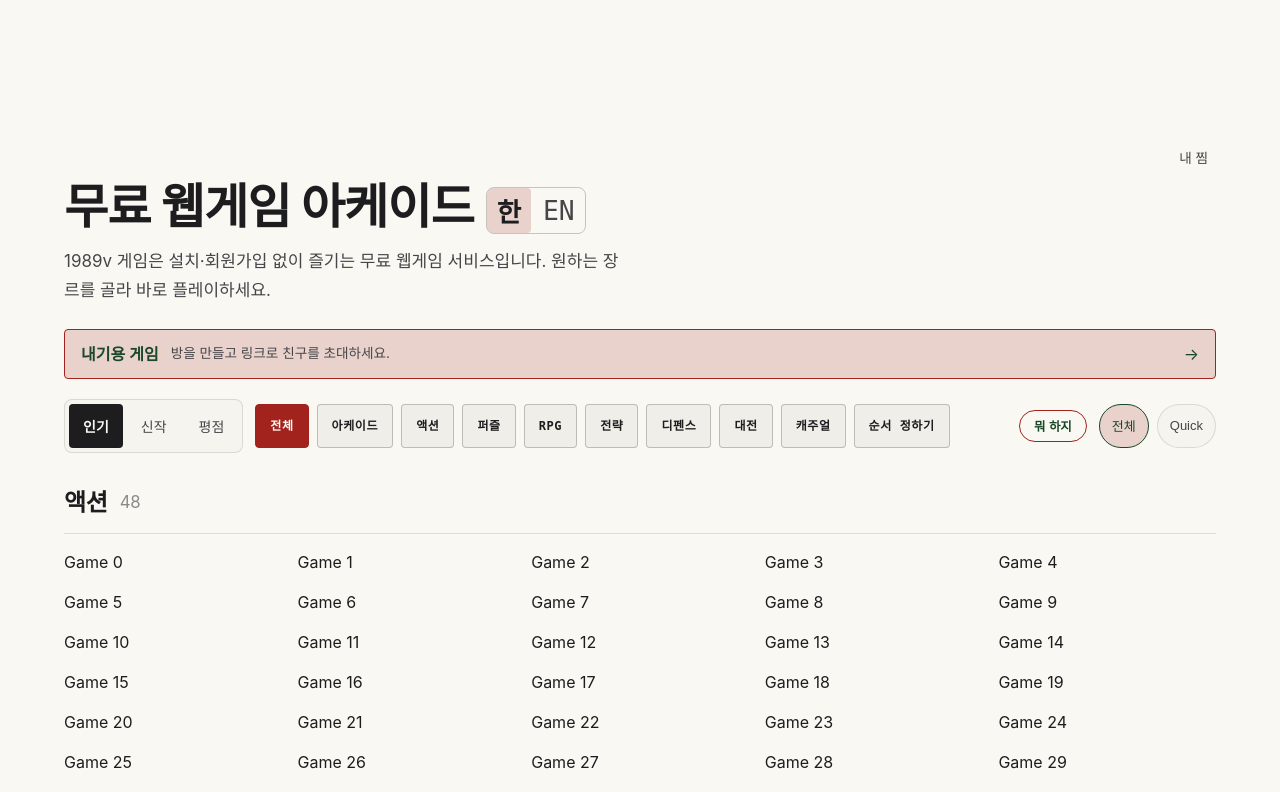
uses 82 total for 48 cards during tag loading/failure and sort races
What coordinates should you click on to do the following:
click the button "Quick"
I would click on:
 (1186, 426)
Its box is x1=1157 y1=404 x2=1216 y2=448.
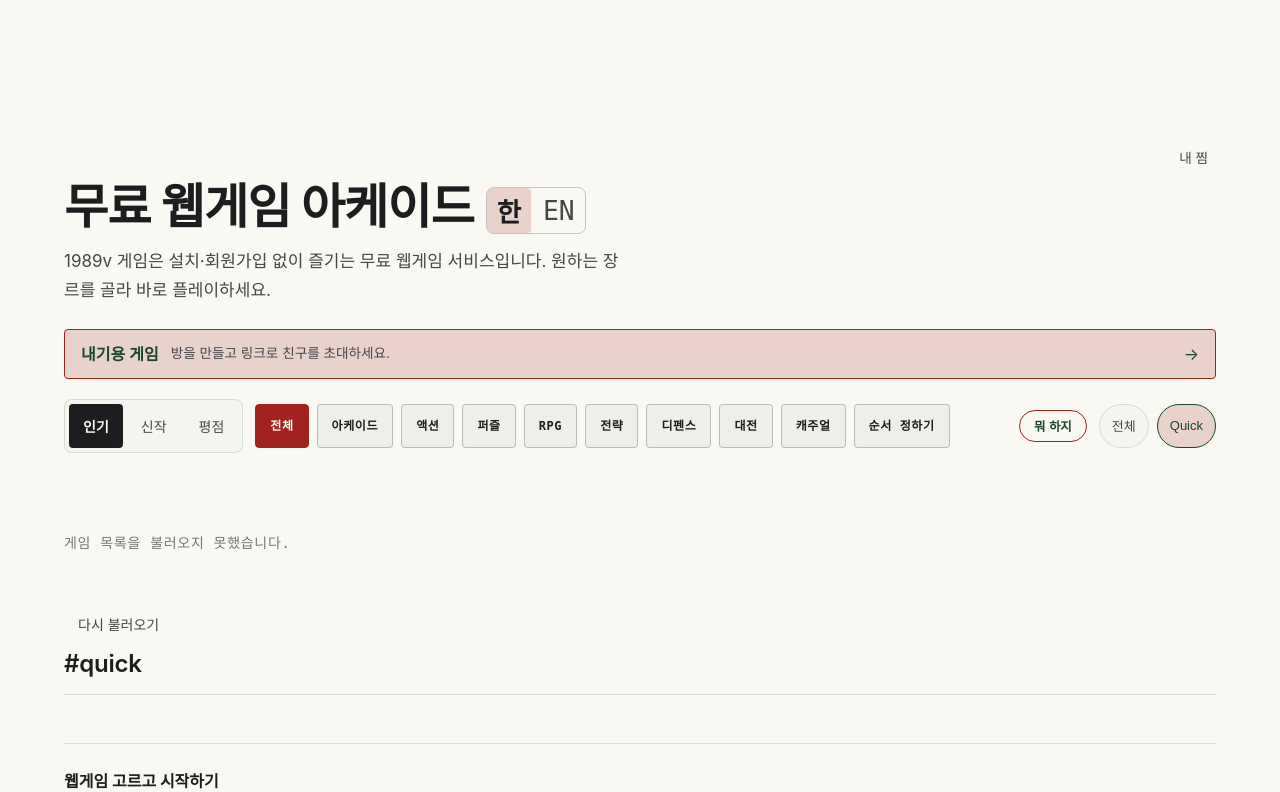
Expected: the text "게임 목록을 불러오지 못했습니다." is shown, x1=64 y1=534 x2=291 y2=550
What coordinates should you click on to do the following:
click the button "Quick"
I would click on:
 (1186, 426)
Its box is x1=1157 y1=404 x2=1216 y2=448.
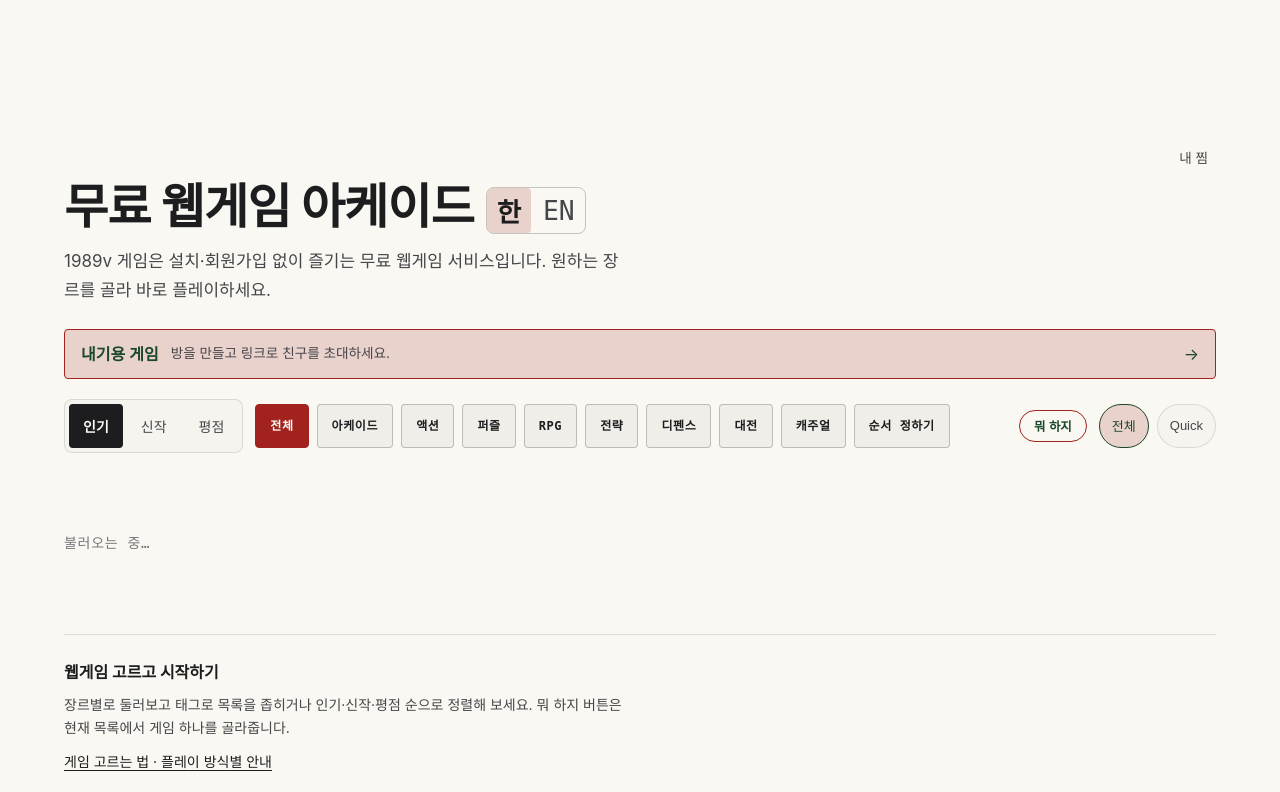
What coordinates should you click on to do the following:
click the button "신작"
I would click on:
 (154, 426)
Its box is x1=127 y1=404 x2=181 y2=448.
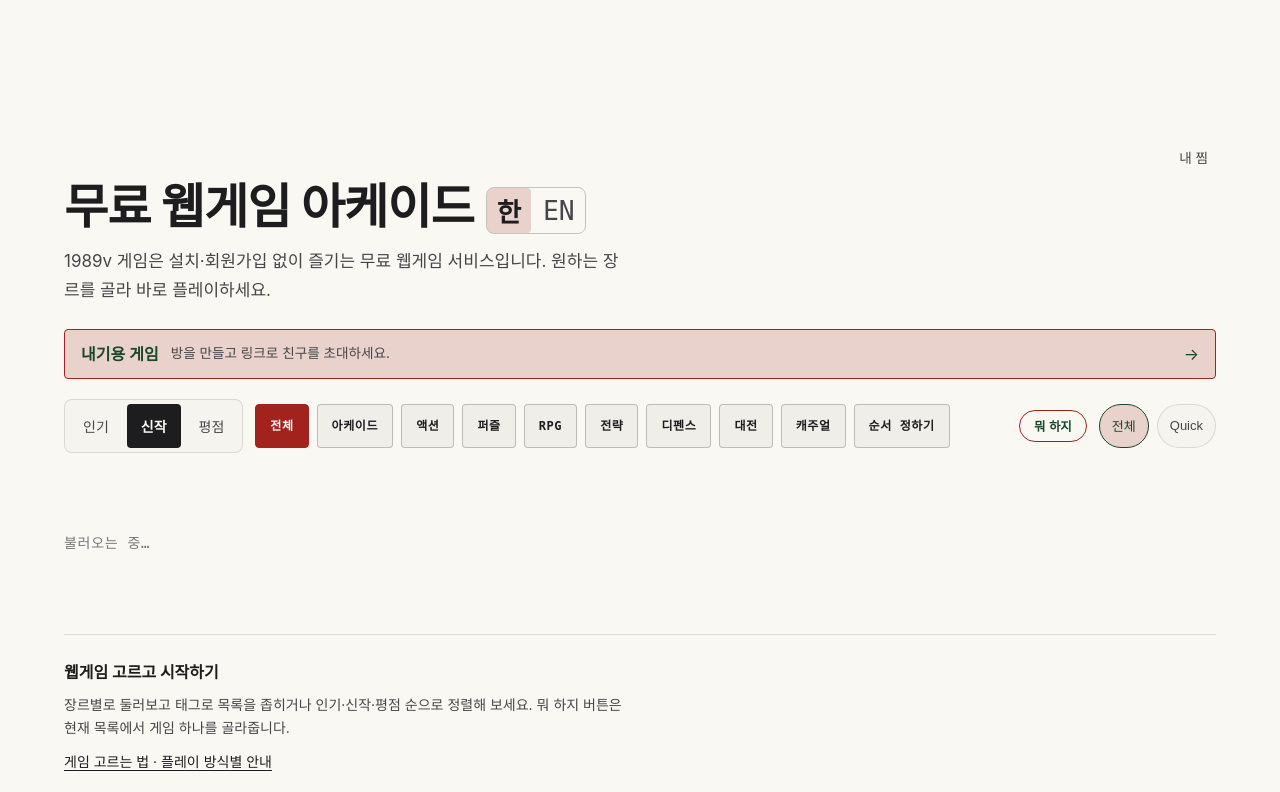
What coordinates should you click on to do the following:
click the button "평점"
I would click on:
 (211, 426)
Its box is x1=184 y1=404 x2=238 y2=448.
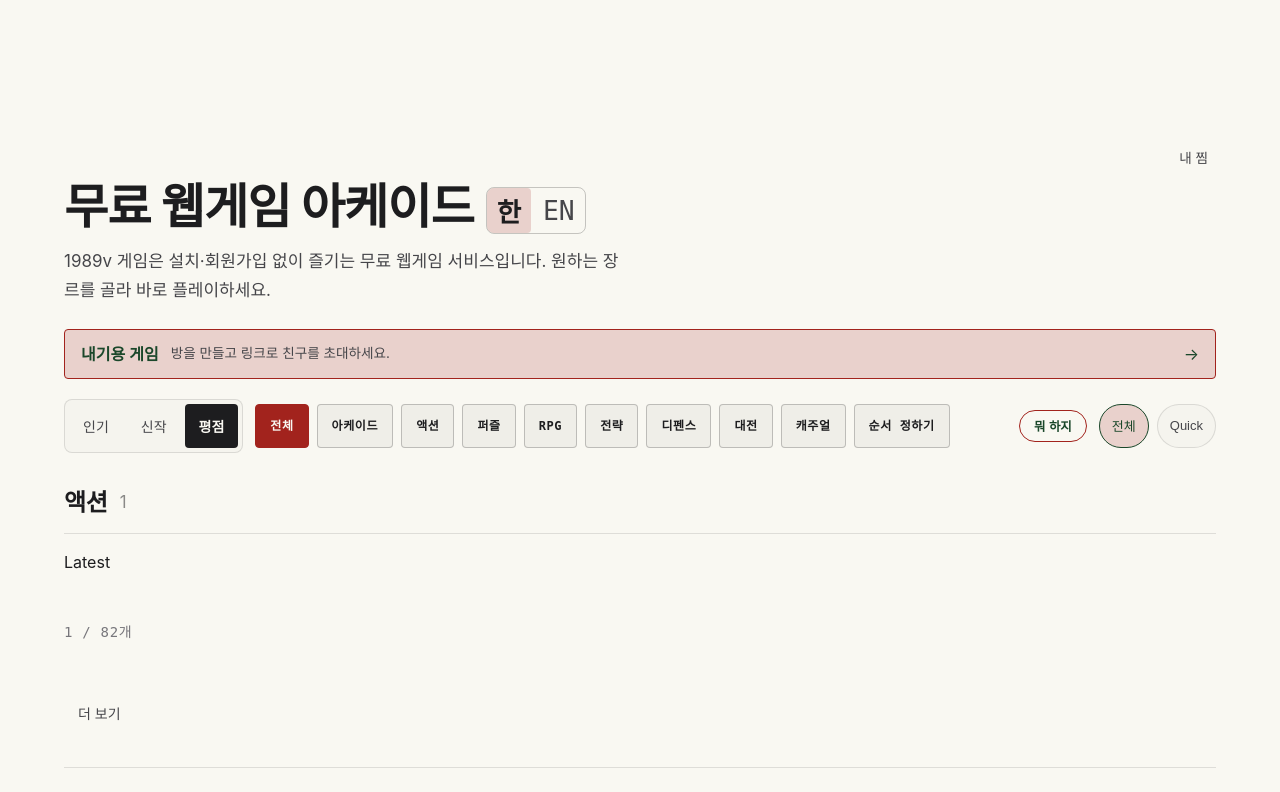
Expected: the text "Latest" is shown, x1=64 y1=552 x2=110 y2=572
